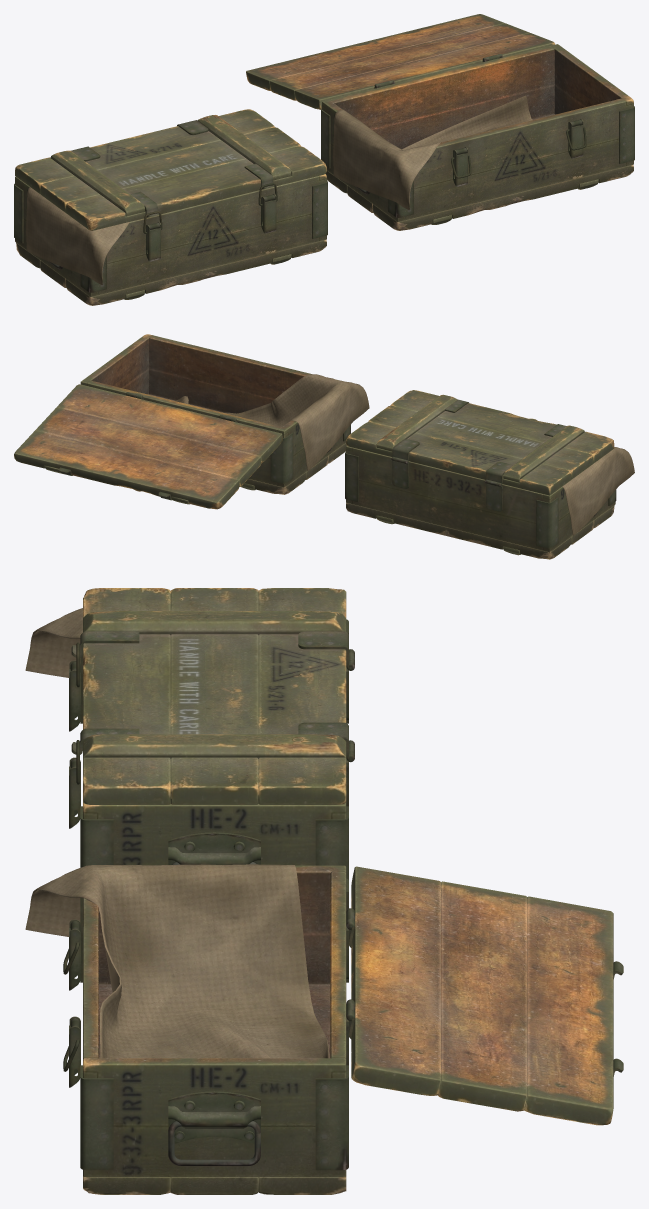
File: old_military_crate.glb
The picture shows the model from 3 angles, top to bottom: view 1: azimuth 30°, elevation 25°; view 2: azimuth 150°, elevation 25°; view 3: azimuth 270°, elevation 25°; orthographic projection. The views are drawn at different scales.
Parts seen in each view (by area): view 1: old_military_crate_b, old_military_crate_lid_a, old_military_crate_a, old_military_crate_lid_b, old_military_crate_cloth_b, old_military_crate_cloth_a, old_military_crate_latch_a, old_military_crate_latch_b; view 2: old_military_crate_lid_b, old_military_crate_lid_a, old_military_crate_a, old_military_crate_b, old_military_crate_cloth_b, old_military_crate_cloth_a; view 3: old_military_crate_lid_a, old_military_crate_lid_b, old_military_crate_b, old_military_crate_cloth_b, old_military_crate_a, old_military_crate_cloth_a, old_military_crate_latch_b, old_military_crate_latch_a.
Boxes of the visible parts, x1=… form: old_military_crate_b: x1=321, y1=44, x2=634, y2=230; old_military_crate_lid_a: x1=15, y1=109, x2=326, y2=230; old_military_crate_a: x1=14, y1=174, x2=327, y2=305; old_military_crate_lid_b: x1=246, y1=14, x2=555, y2=109; old_military_crate_cloth_b: x1=333, y1=95, x2=532, y2=209; old_military_crate_cloth_a: x1=26, y1=187, x2=129, y2=284; old_military_crate_latch_a: x1=146, y1=194, x2=276, y2=261; old_military_crate_latch_b: x1=453, y1=119, x2=583, y2=186; old_military_crate_lid_b: x1=14, y1=384, x2=282, y2=509; old_military_crate_lid_a: x1=346, y1=390, x2=614, y2=495; old_military_crate_a: x1=345, y1=446, x2=616, y2=559; old_military_crate_b: x1=80, y1=334, x2=350, y2=494; old_military_crate_cloth_b: x1=174, y1=374, x2=369, y2=470; old_military_crate_cloth_a: x1=562, y1=447, x2=634, y2=535; old_military_crate_lid_a: x1=71, y1=588, x2=354, y2=804; old_military_crate_lid_b: x1=346, y1=866, x2=623, y2=1125; old_military_crate_b: x1=80, y1=865, x2=354, y2=1194; old_military_crate_cloth_b: x1=25, y1=864, x2=329, y2=1058; old_military_crate_a: x1=80, y1=619, x2=354, y2=879; old_military_crate_cloth_a: x1=25, y1=608, x2=82, y2=677; old_military_crate_latch_b: x1=69, y1=919, x2=80, y2=1087; old_military_crate_latch_a: x1=69, y1=660, x2=80, y2=828.
Bounding box in the file's own units: 1.82 × 0.3009 × 0.9757.
1 material, 1 textured.
